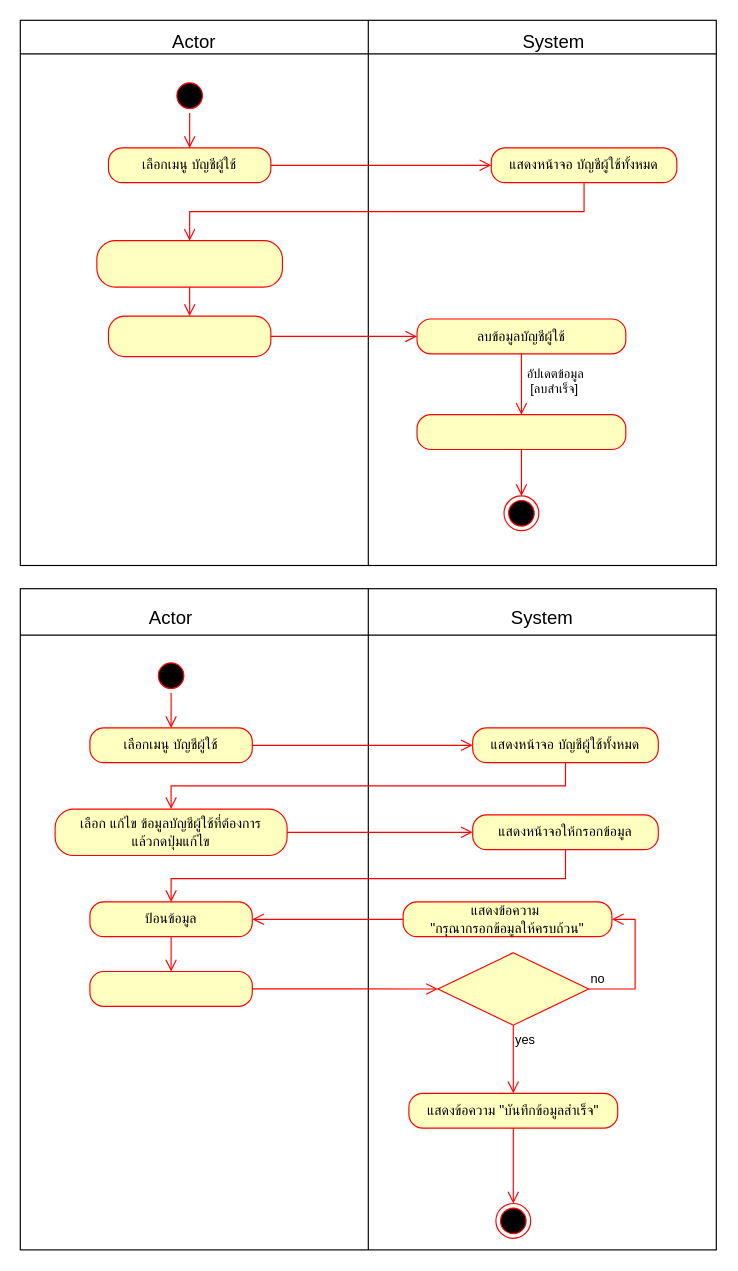
Some shapes in this 738 by 1271 pixel diagram are drawn without their labels. Each missing label, with the box of its shape:
กดปุ่ม ยืนยัน: (107, 315, 271, 357)
กดปุ่ม อัปเดต: (89, 970, 252, 1006)
ตรวจสอบความถูกต้อง: (437, 952, 589, 1025)
เลือก ลบ บัญชีผู้ใช้ที่ต้องการ แล้วกดปุ่มลบ: (96, 240, 282, 287)
แสดงข้อความ "ลบข้อมูลสำเร็จ": (416, 414, 626, 449)
